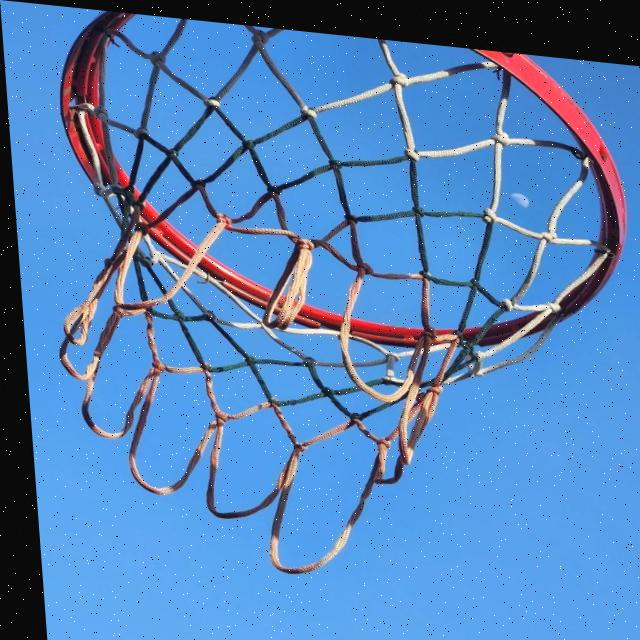hoop: (2, 1, 640, 590)
